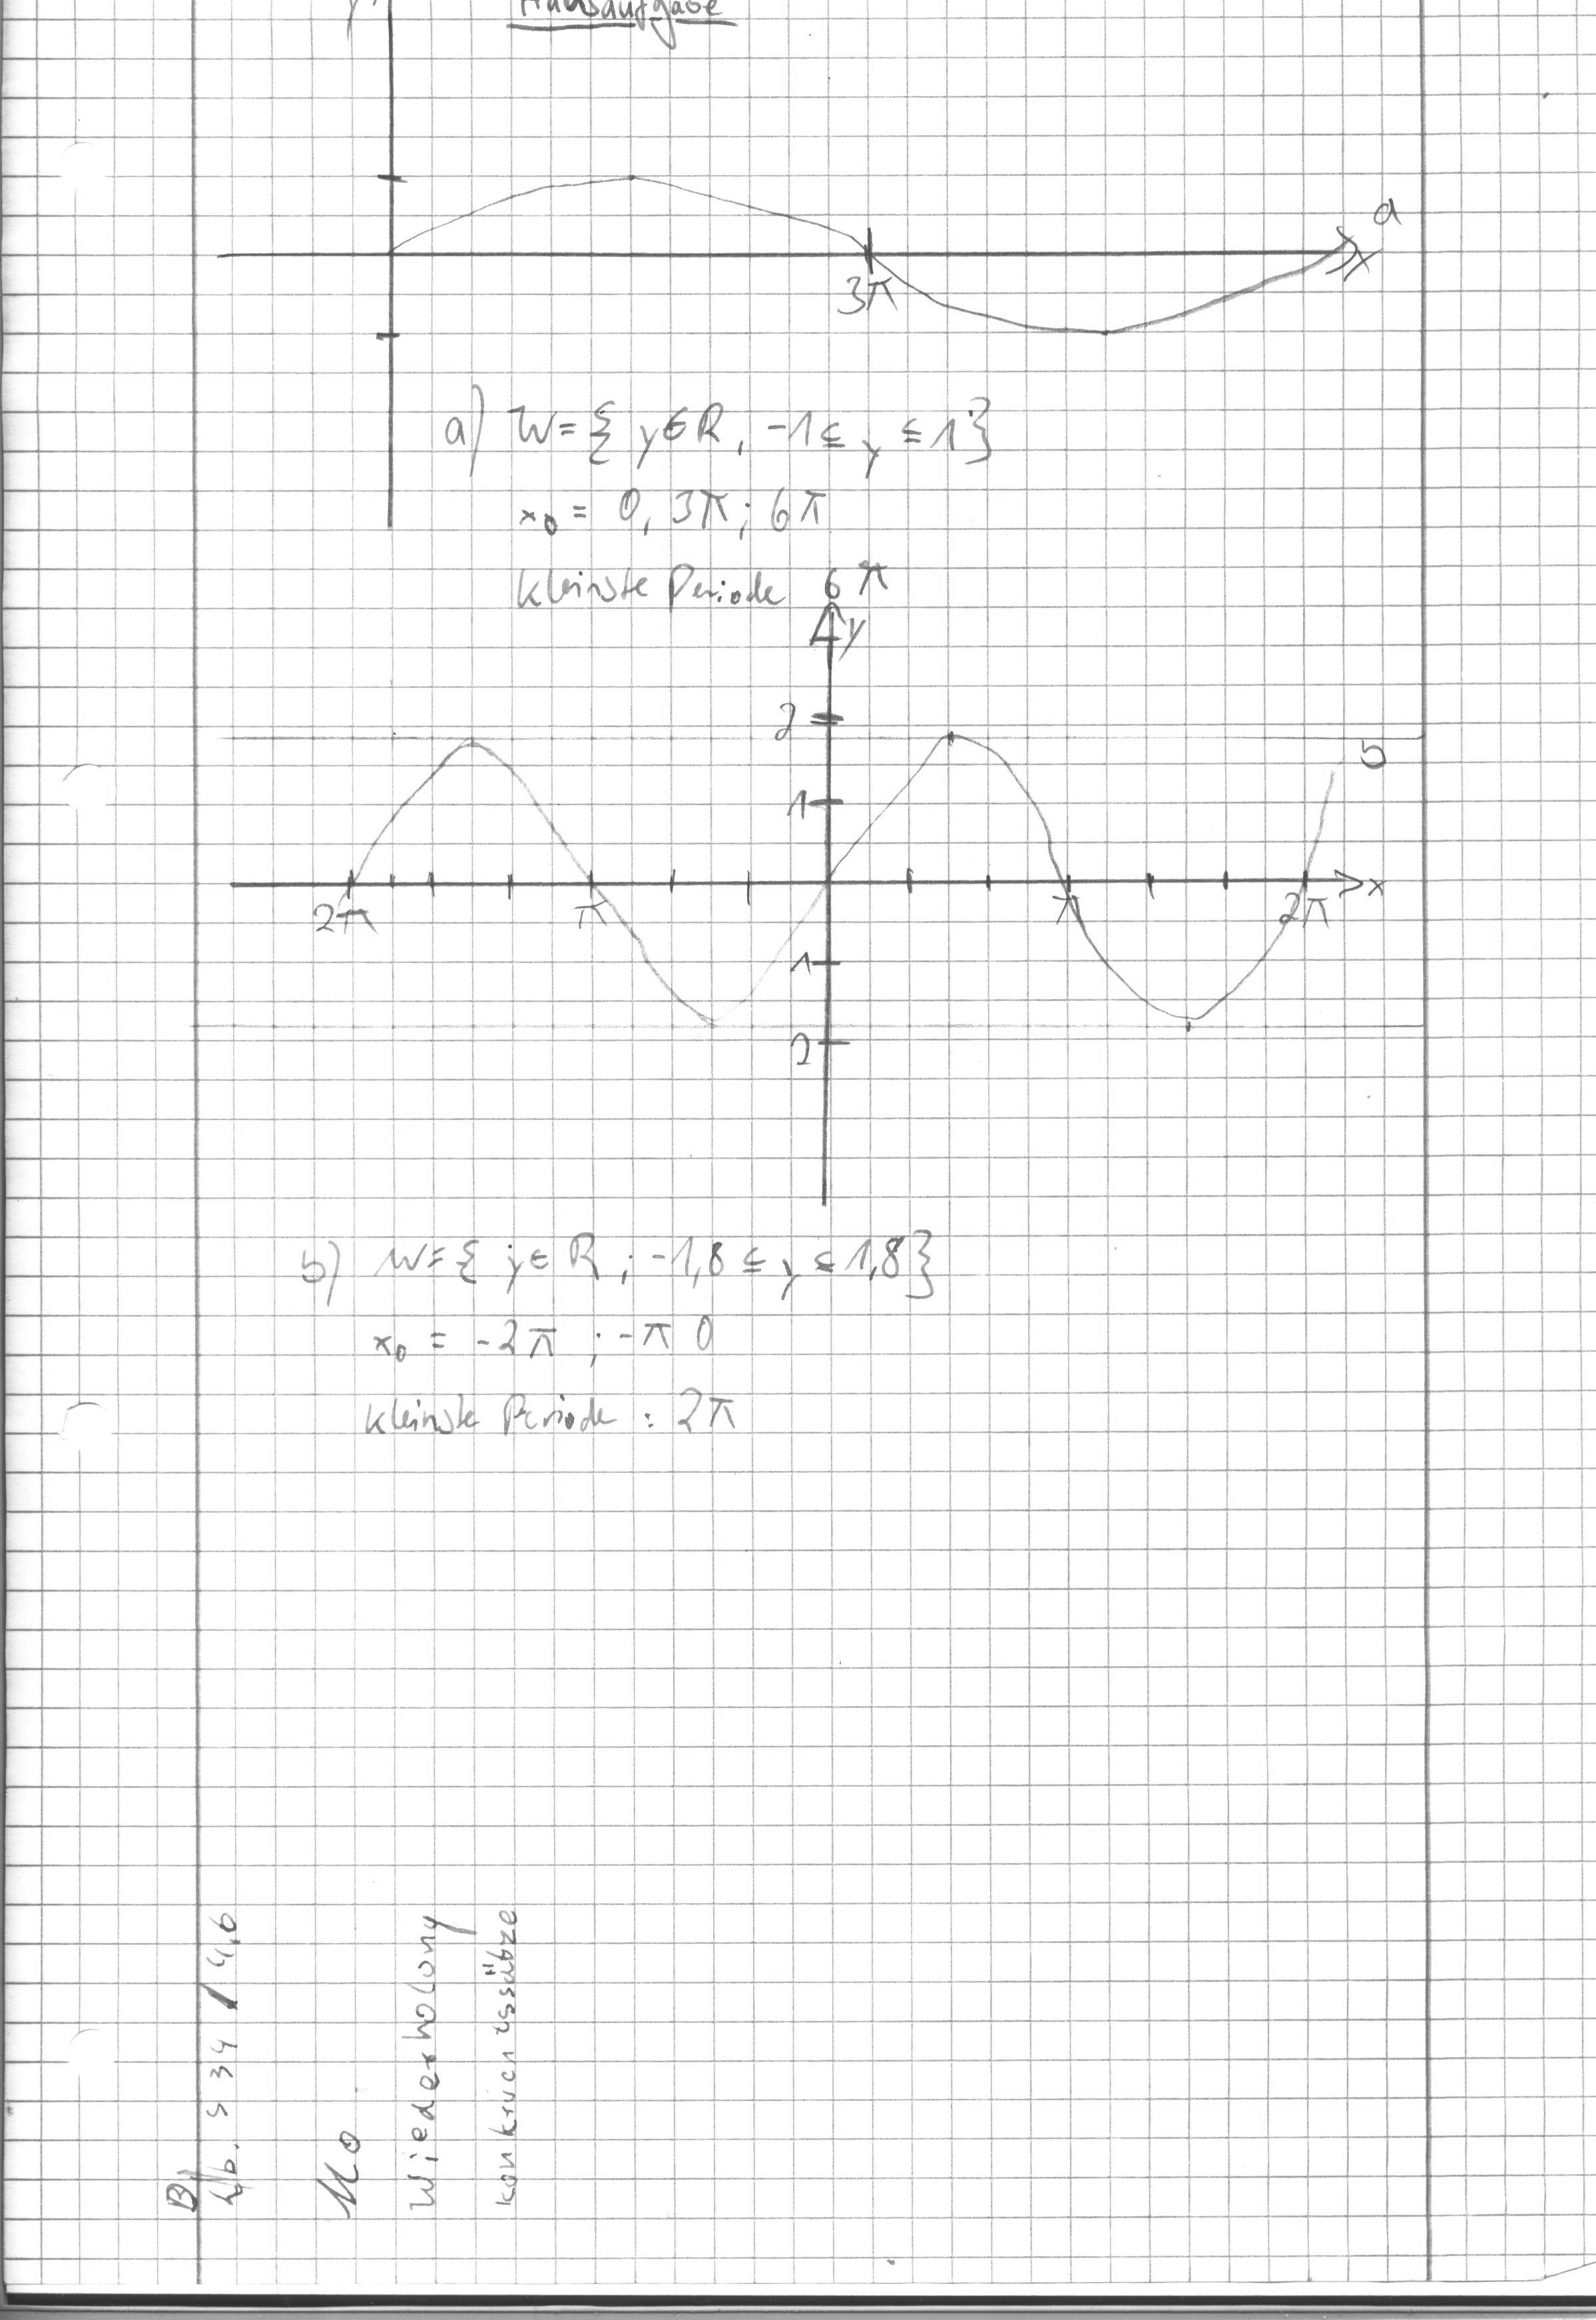word: (425, 353, 1000, 651), (286, 1209, 947, 1456), (145, 1865, 537, 2234)
